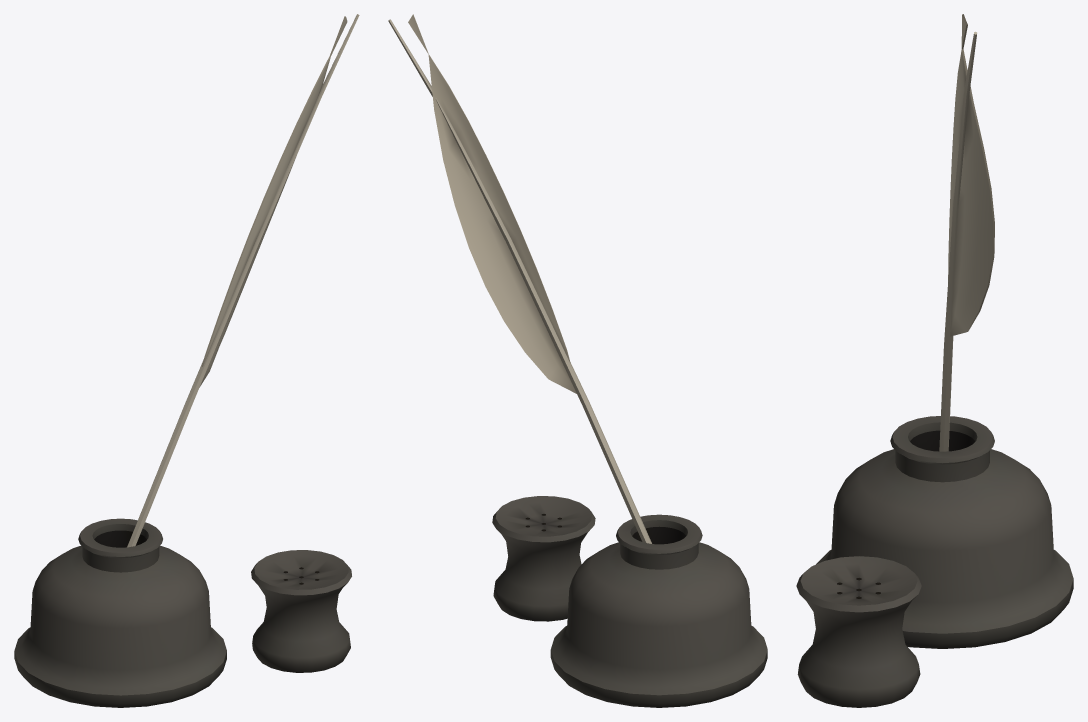
The model's file is quill.glb.
3 views of the same model, side by side, from view 1: azimuth 30°, elevation 25°; view 2: azimuth 150°, elevation 25°; view 3: azimuth 270°, elevation 25° (orthographic). The views are drawn at different scales.
Visible parts, largest first — view 1: base; view 2: base; view 3: base.
Part boxes in pixels (bbox=[...]): base: bbox=[14, 14, 359, 707]; base: bbox=[388, 14, 767, 707]; base: bbox=[796, 14, 1073, 707].
Bounding box in the file's own units: 0.1757 × 0.2859 × 0.0995.
